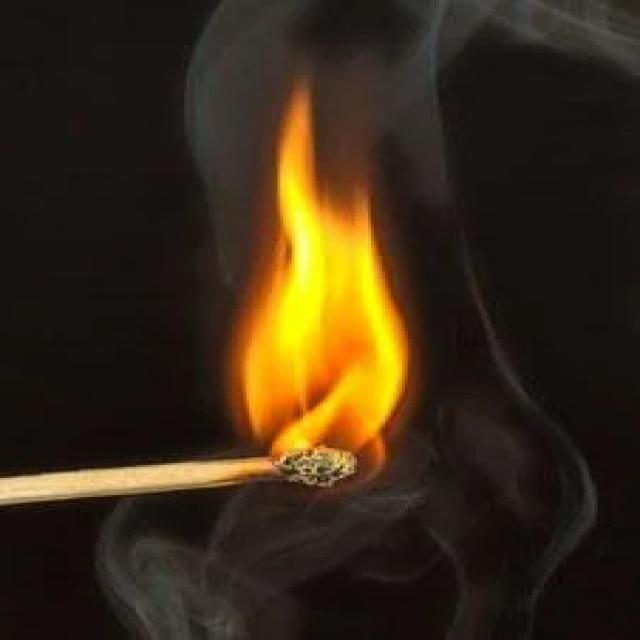fire: (204, 79, 415, 486)
